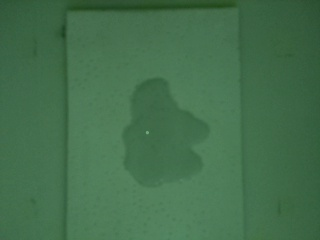Water_detected: (128, 82, 193, 181)
